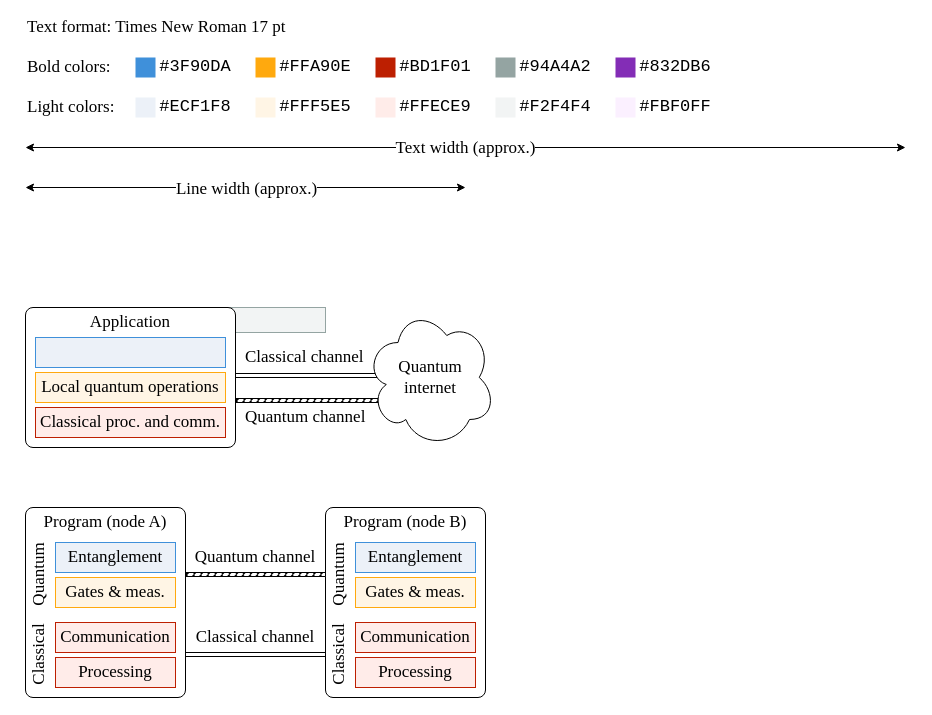
The diagram is 932 pixels wide and 715 high, and some of its shapes have lost their labels. Each missing label, with the centre of its shape:
"End node" goes at (x=275, y=319).
"Entanglement generation" goes at (x=130, y=352).
